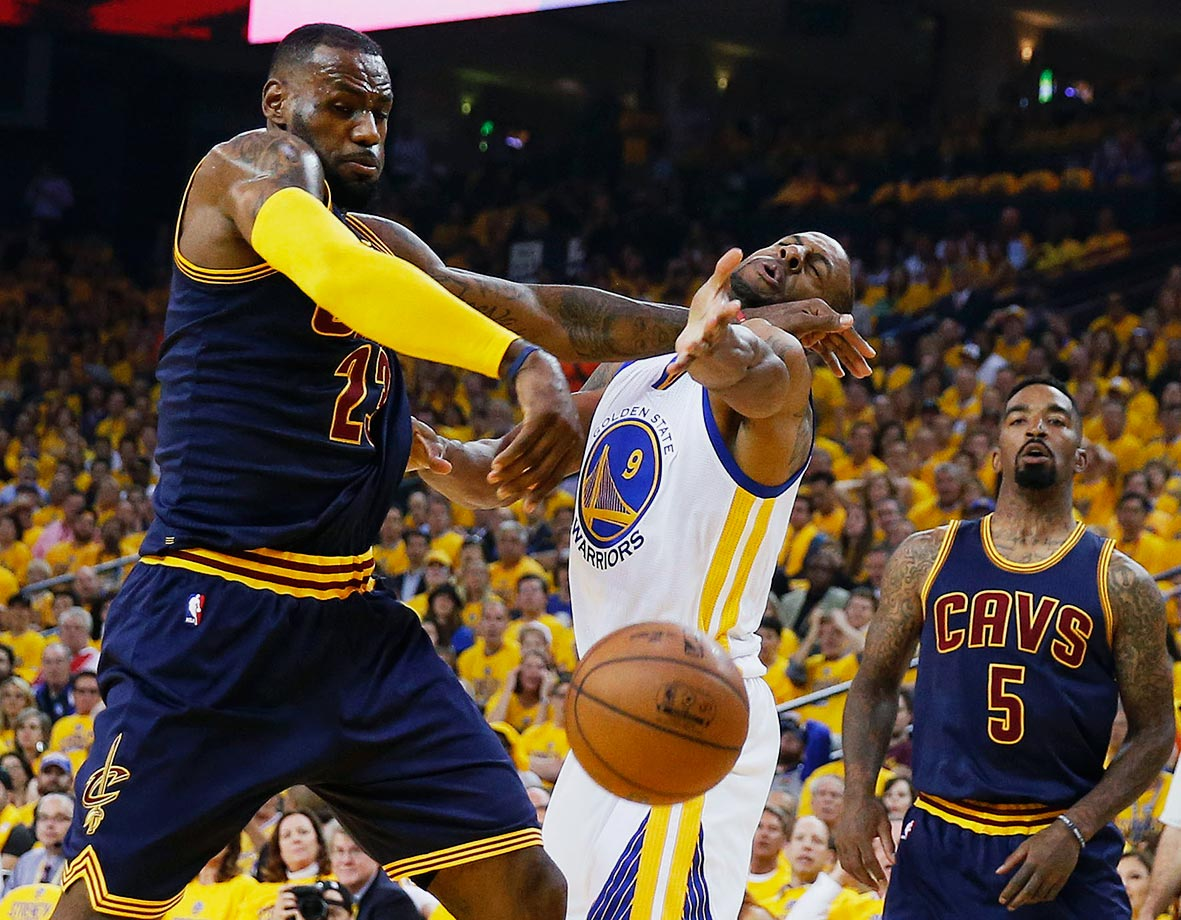ball: (564, 628, 756, 805)
player: (185, 54, 521, 920), (531, 241, 857, 920), (916, 409, 1166, 920)
